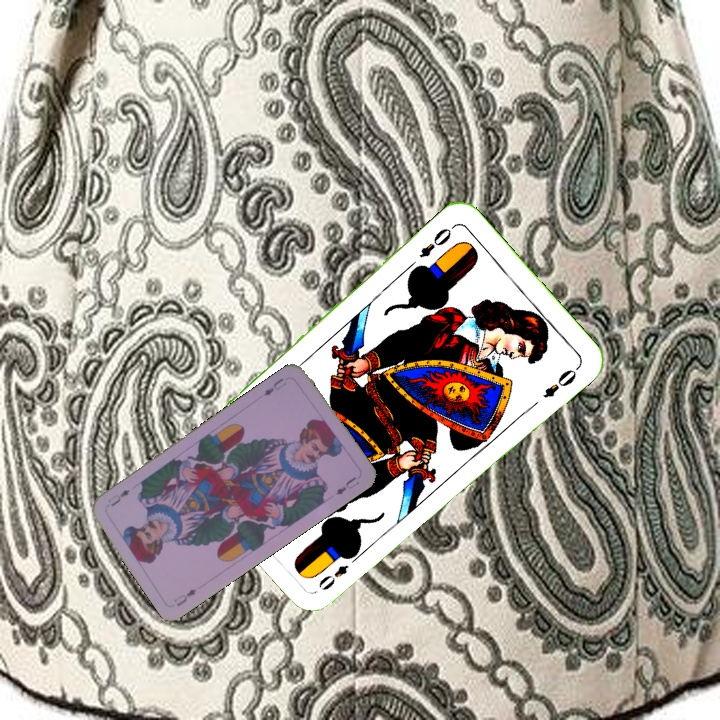EO: (314, 549, 363, 594), (415, 221, 458, 261)
EU: (259, 374, 289, 399), (170, 585, 199, 609)
